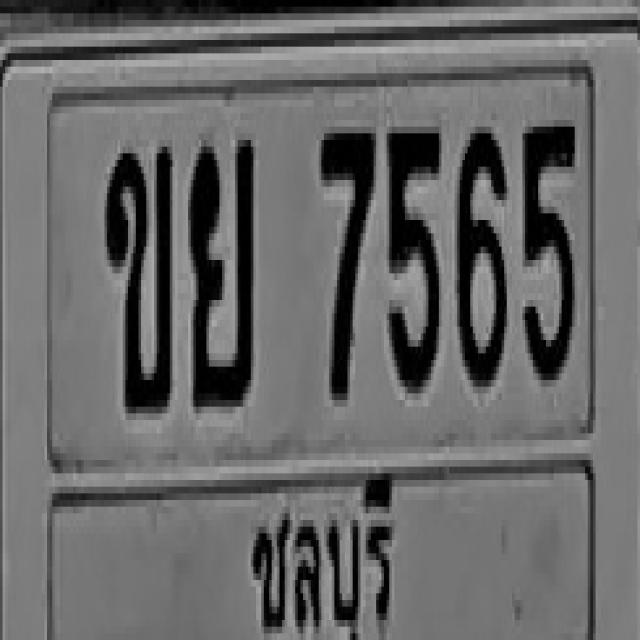11KhorKhai: (104, 140, 172, 407)
43YorYak: (188, 133, 253, 407)
5: (386, 120, 442, 387), (522, 120, 574, 380)
6: (456, 124, 505, 384)
7: (318, 123, 374, 397)
Chonburi: (243, 462, 405, 640)
